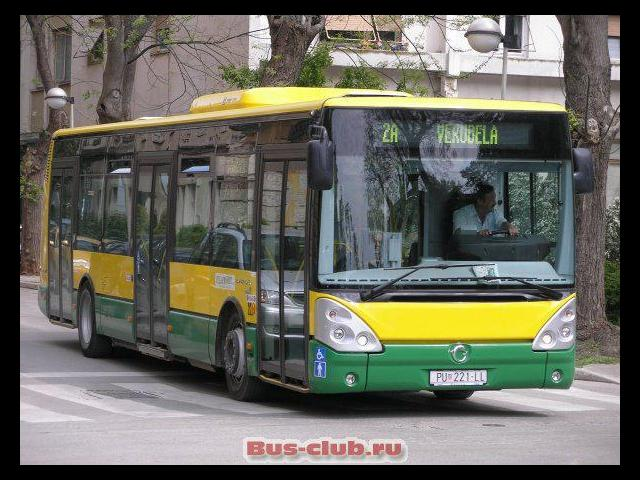bus: (38, 85, 580, 408)
